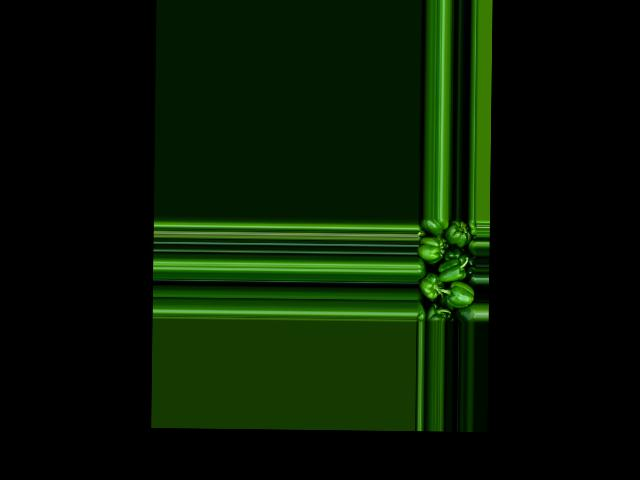bell_pepper: (456, 299, 475, 323)
